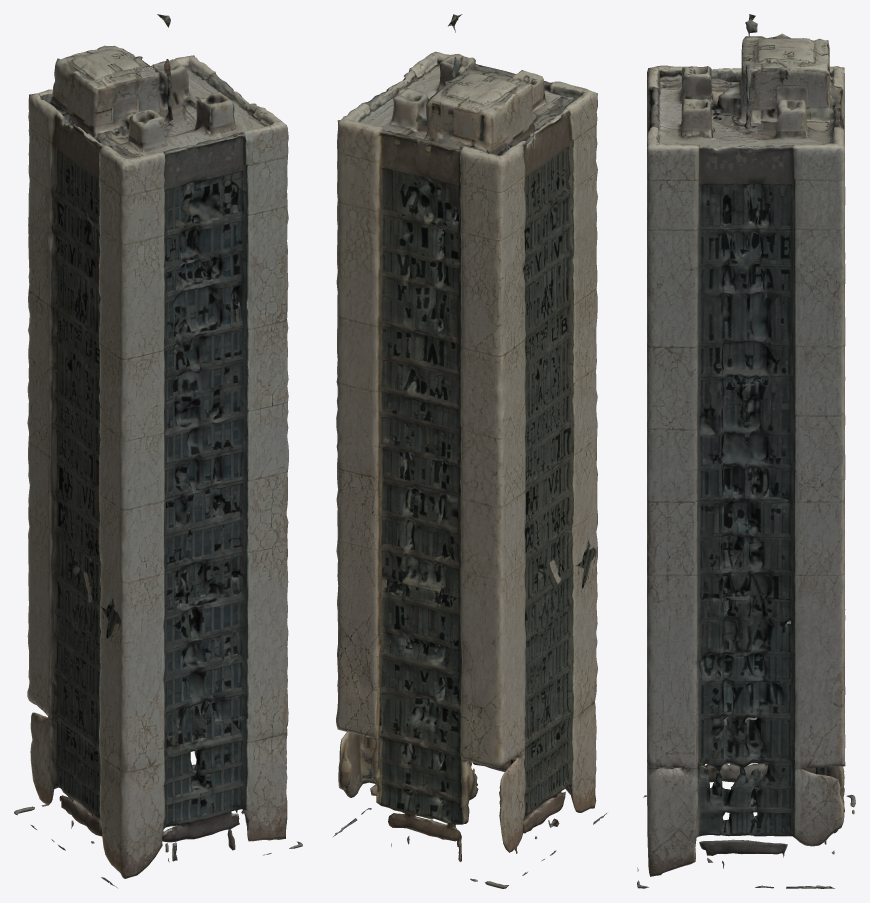
The model's file is Bldg_Tower.glb.
3 views of the same model, side by side, from view 1: azimuth 30°, elevation 25°; view 2: azimuth 150°, elevation 25°; view 3: azimuth 270°, elevation 25° (orthographic). The views are drawn at different scales.
Parts seen in each view (by area): view 1: texture_mapping; view 2: texture_mapping; view 3: texture_mapping.
Boxes of the visible parts, <box> form: texture_mapping: <box>14,14,302,888</box>; texture_mapping: <box>333,14,606,888</box>; texture_mapping: <box>637,14,855,888</box>.
Bounding box in the file's own units: 0.2372 × 0.9828 × 0.2346.
1 material, 1 textured.
